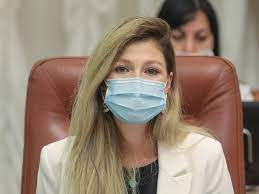FaceMask: (105, 78, 167, 122)
